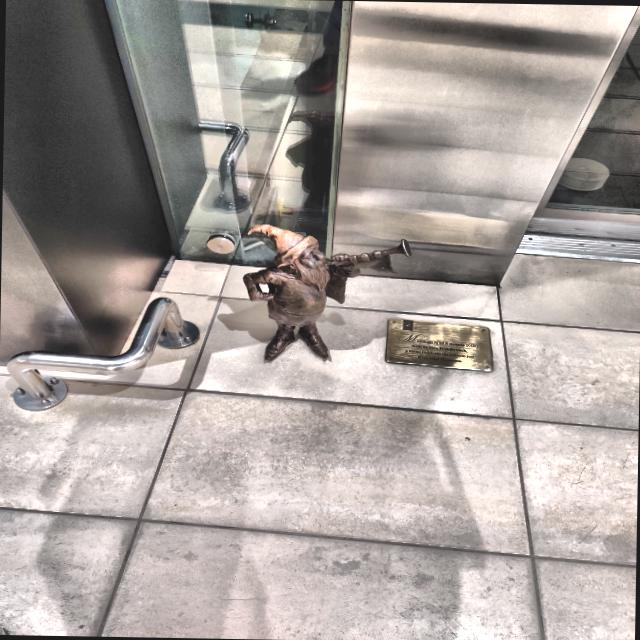Trabibrzuch: (242, 224, 410, 362)
